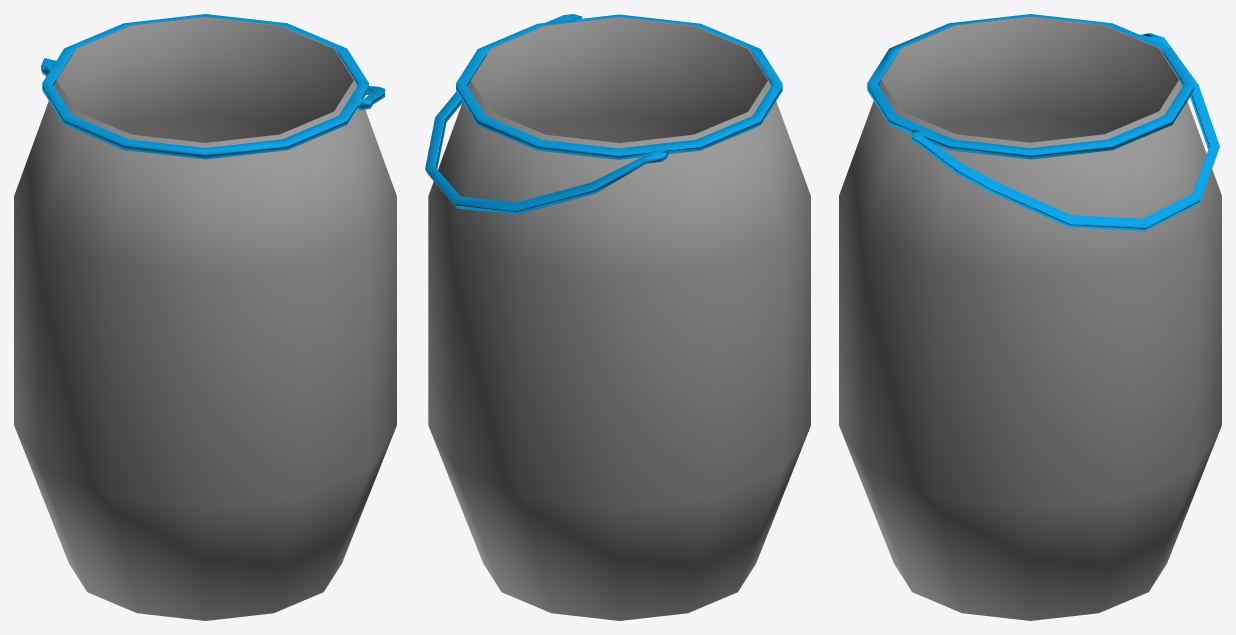
Rendered from jar.fbx.
3 views of the same model, side by side, from view 1: azimuth 30°, elevation 25°; view 2: azimuth 150°, elevation 25°; view 3: azimuth 270°, elevation 25° (orthographic).
Visible parts, largest first — view 1: Drink Jar, Drink Jar.002; view 2: Drink Jar, Drink Jar.002; view 3: Drink Jar, Drink Jar.002.
Boxes of the visible parts, x1,y1,x2,y2 form: Drink Jar: (14,17,396,620); Drink Jar.002: (41,14,385,159); Drink Jar: (428,17,810,620); Drink Jar.002: (425,14,782,214); Drink Jar: (839,16,1221,620); Drink Jar.002: (867,14,1219,231).
Bounding box in the file's own units: 40.86 × 56.94 × 40.86.
2 materials, 2 textured.
